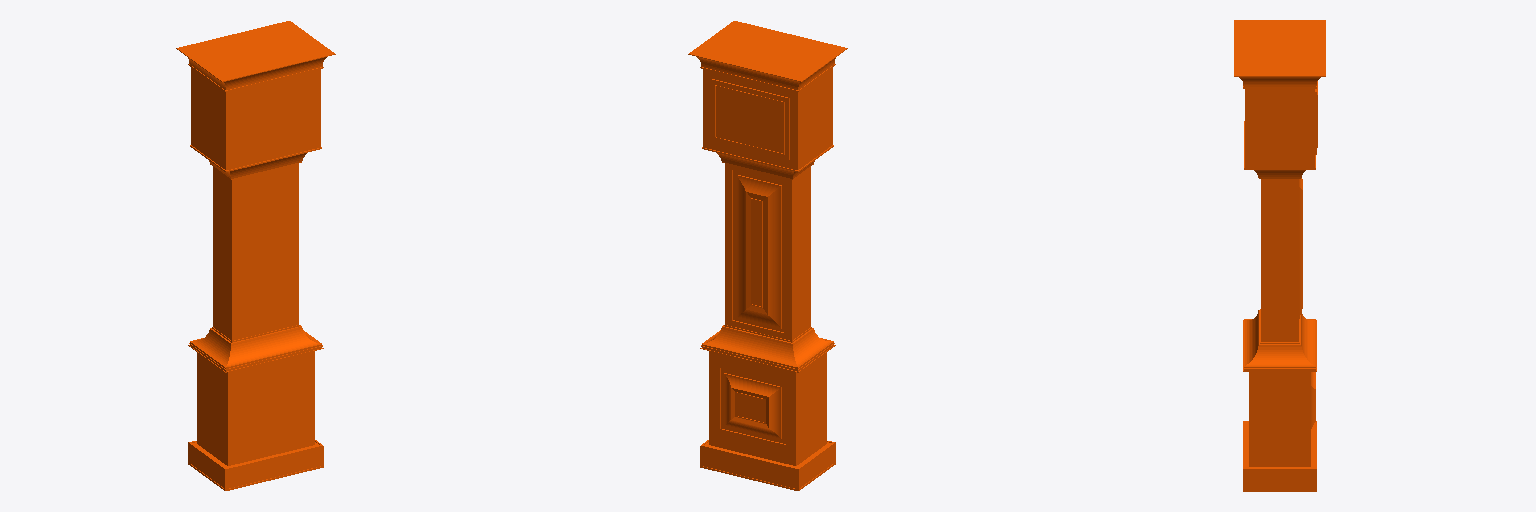
robot.urdf — StandingClock_10a200395145c61aea2f5d52559debc:
<?xml version="1.0" ?>
<robot name="StandingClock_10a200395145c61aea2f5d52559debc">
   <material name="obj_color">
      <color rgba="1.0 0.423529411765 0.0392156862745 1.0"/>
   </material>
   <link name="top">
      <inertial>
         <origin rpy="3.033261547290237e-05 0.000295666620494802 0.0003068774501794785" xyz="-0.0001317653992877519 -0.002023999999999999 -0.001731795549517234"/>
         <mass value="0.1562298944960184"/>
         <inertia ixx="0.0002956666204913113" ixy="3.103219766780968e-22" ixz="9.623897623521251e-10" iyy="0.0003068774501794784" iyz="2.026592500754918e-21" izz="3.0332615476393e-05"/>
      </inertial>
      <visual>
         <origin rpy="0 0 0" xyz="0 0 0"/>
         <geometry>
            <mesh filename="top_watertight_tiny.stl" scale="1 1 1"/>
         </geometry>
         <material name="obj_color"/>
      </visual>
      <collision>
         <origin rpy="0 0 0" xyz="0 0 0"/>
         <geometry>
            <mesh filename="top_watertight_tiny.obj" scale="1 1 1"/>
         </geometry>
      </collision>
   </link>
   <link name="bottom">
      <inertial>
         <origin rpy="1.633333333199431e-08 1.633333333199431e-08 1.633333333362855e-08" xyz="0.3464080000000008 0.3464080000000008 0.3464080000000008"/>
         <mass value="0.0009800000000000017"/>
         <inertia ixx="1.633333333253906e-08" ixy="5.447480642029219e-19" ixz="5.447480642029219e-19" iyy="1.633333333253906e-08" iyz="5.447480642029219e-19" izz="1.633333333253906e-08"/>
      </inertial>
      <visual>
         <origin rpy="0 0 0" xyz="0 0 0"/>
         <geometry>
            <mesh filename="bottom_watertight_tiny.stl" scale="1 1 1"/>
         </geometry>
         <material name="obj_color"/>
      </visual>
   </link>
   <link name="world"/>
   <joint name="world_to_base" type="fixed">
      <origin xyz="0 0 0"/>
      <axis xyz="0 0 0"/>
      <parent link="world"/>
      <child link="bottom"/>
   </joint>
   <joint name="rotation" type="revolute">
      <origin xyz="0 0 0"/>
      <axis xyz="0 0 -1"/>
      <parent link="bottom"/>
      <child link="top"/>
      <dynamics damping="1.0" friction="1.0"/>
      <limit effort="0.1" velocity="0.1" lower="0" upper="0.001"/>
   </joint>
</robot>

--- Render facts (derived) ---
The picture shows the robot from 3 angles, left to right: view 1: azimuth 30°, elevation 25°; view 2: azimuth 150°, elevation 25°; view 3: azimuth 270°, elevation 25°; orthographic projection.
Model StandingClock_10a200395145c61aea2f5d52559debc with 3 links and 2 joints (1 revolute, 1 fixed), rooted at world, posed all joints at 0.
Links seen in each view (by area): view 1: top; view 2: top; view 3: top.
Boxes of the visible links, x1,y1,x2,y2 form: top: (176, 21, 335, 490); top: (688, 21, 847, 490); top: (1234, 20, 1325, 491).
Bounding box of the posed robot: 0.0426 × 0.0298 × 0.1489 m (x, y, z).
1 mesh visuals loaded from 2 distinct referenced files (1 binary STL); not drawn: 1 (reference not matched to a file when rendering).
